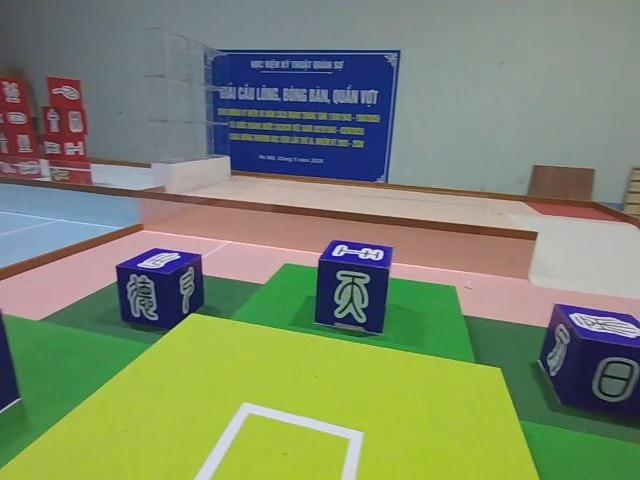R2 Fake Blue: (538, 301, 640, 426), (314, 239, 394, 335), (113, 247, 203, 332), (1, 295, 22, 442)
